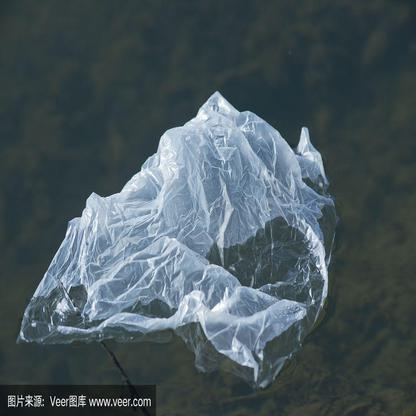plastic bag: (18, 90, 337, 393)
